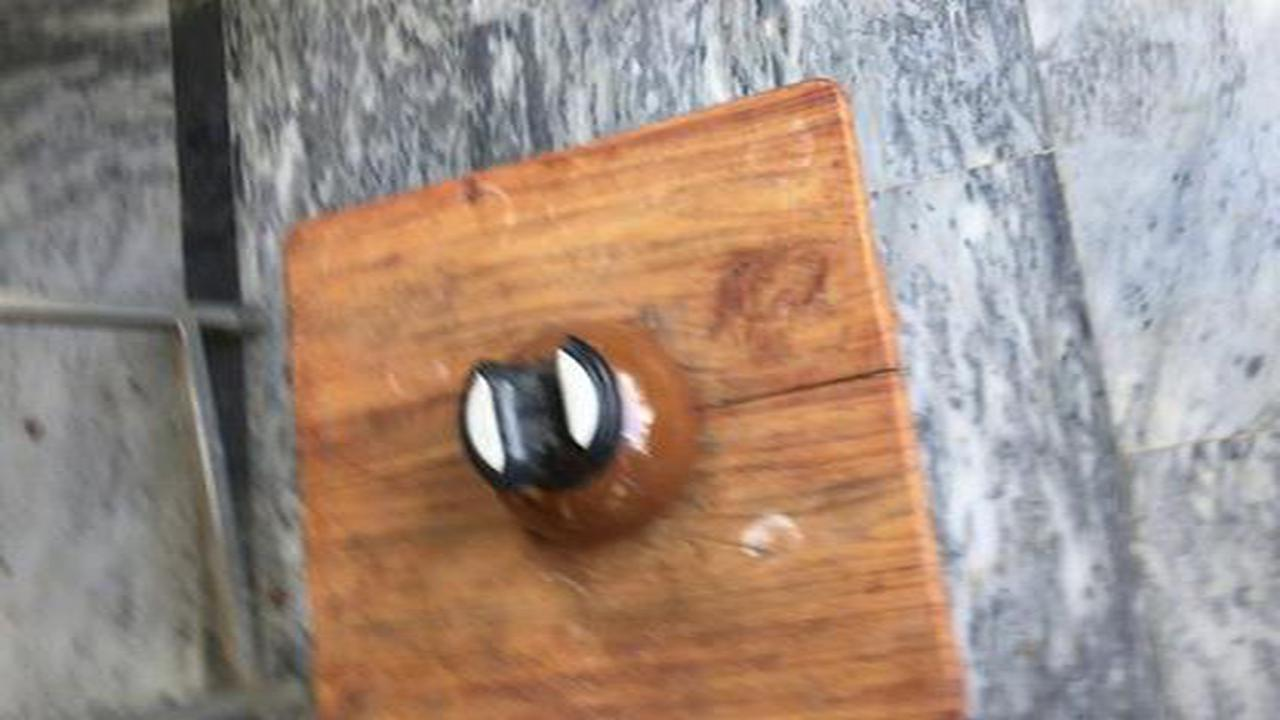insulator_pin: (431, 312, 733, 570)
